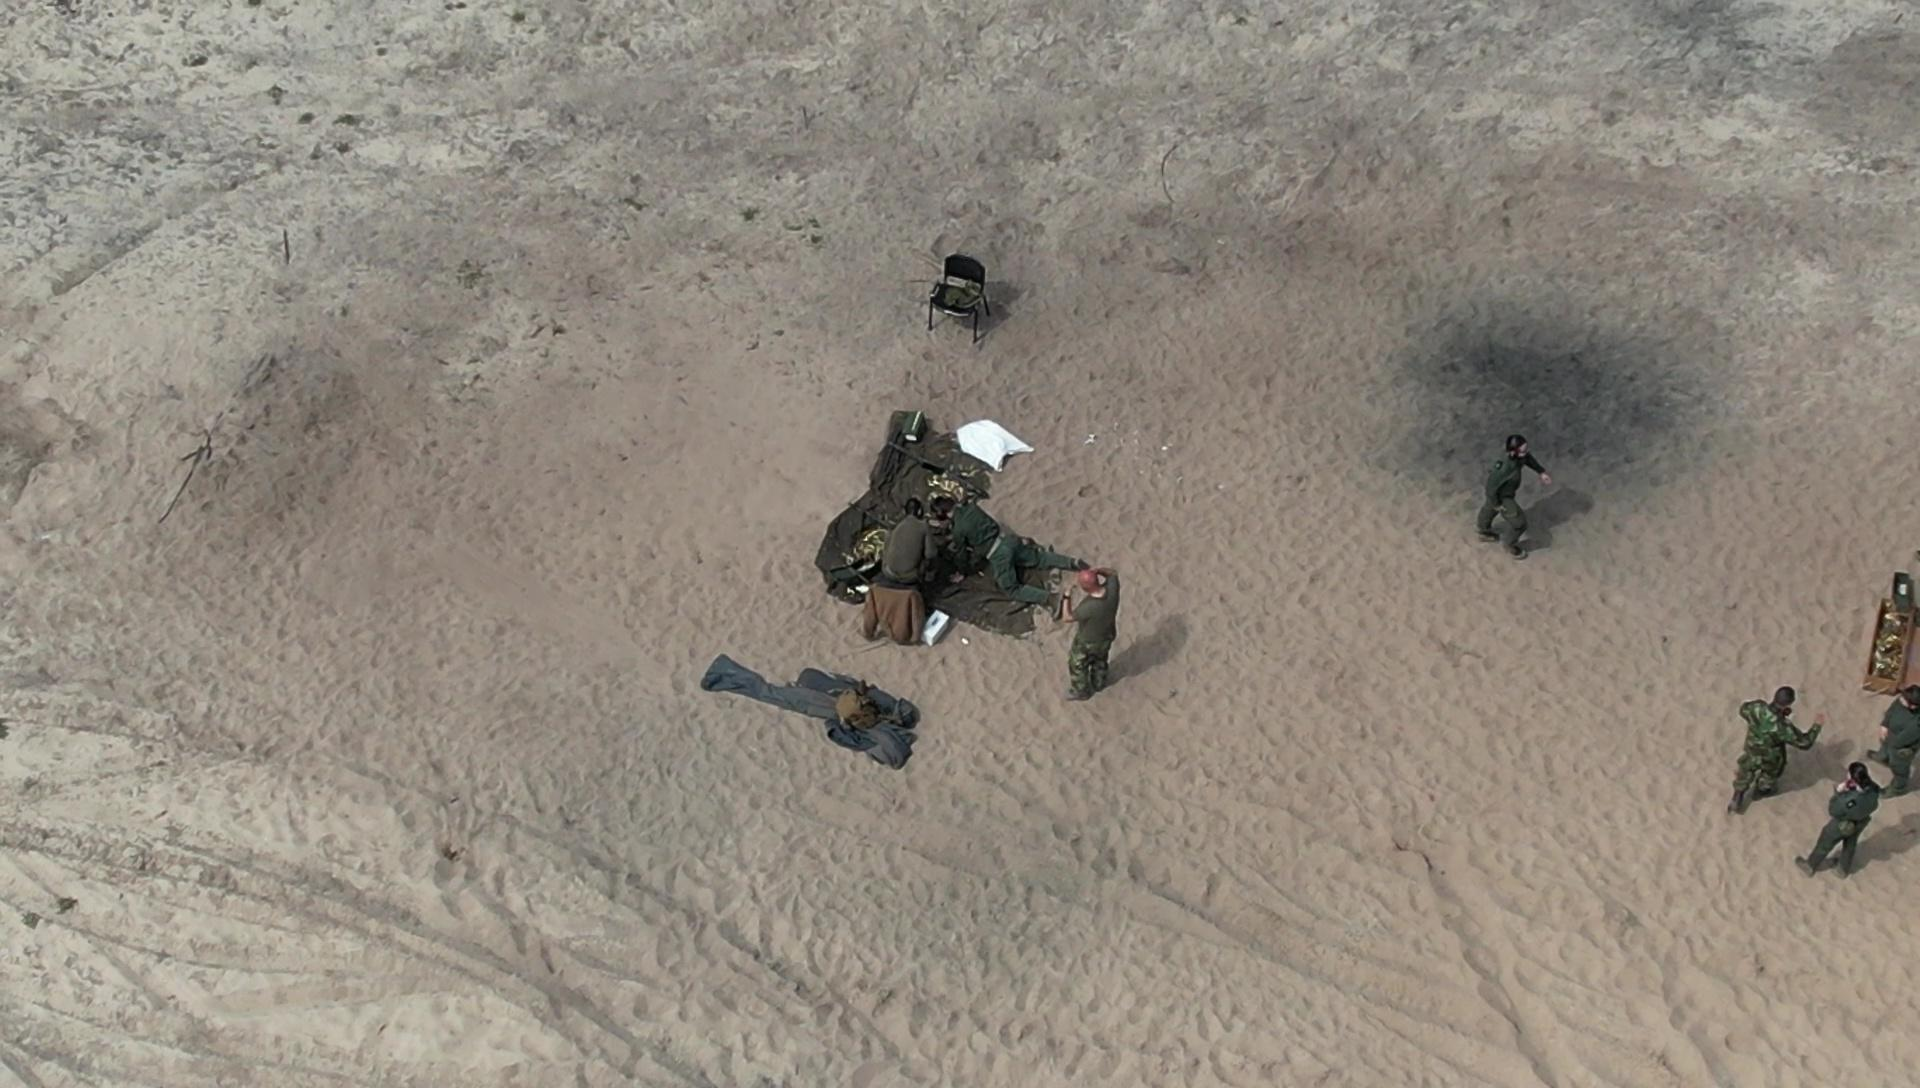Soldier: (919, 491, 1056, 622), (1050, 549, 1145, 717), (1733, 659, 1817, 837), (1460, 415, 1557, 568), (1815, 737, 1887, 897), (881, 505, 964, 607)
